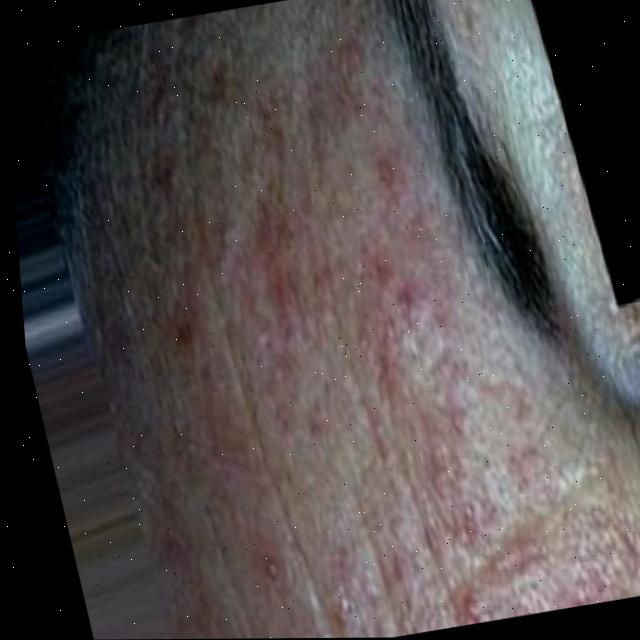Rosacea: (98, 17, 618, 639)
